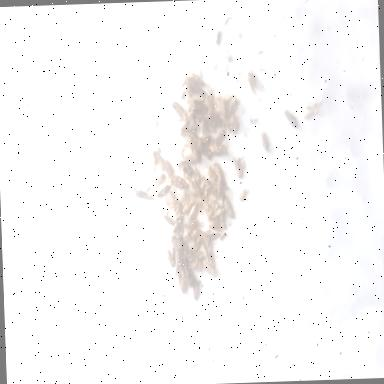pbw: (186, 232, 203, 258), (300, 102, 324, 120), (224, 96, 240, 119), (231, 155, 245, 180), (170, 100, 186, 121), (152, 150, 166, 174), (187, 139, 200, 164), (213, 97, 226, 122), (200, 235, 214, 258), (146, 174, 166, 190), (169, 174, 189, 190), (176, 270, 188, 296), (165, 192, 180, 212), (247, 72, 261, 93), (284, 110, 298, 130), (222, 196, 234, 219), (183, 228, 202, 242), (190, 176, 202, 198), (213, 162, 224, 186), (164, 246, 176, 268), (199, 179, 212, 199), (190, 71, 206, 87), (180, 160, 194, 178), (184, 264, 195, 286), (208, 142, 228, 154), (186, 110, 198, 130), (201, 258, 214, 276), (201, 120, 211, 143), (192, 84, 206, 100), (155, 184, 171, 198), (212, 130, 226, 146), (205, 201, 218, 218), (191, 280, 202, 300), (201, 140, 212, 160), (134, 189, 154, 200), (178, 238, 186, 265), (207, 208, 225, 220), (190, 102, 208, 114), (180, 78, 192, 96), (171, 215, 183, 233), (170, 234, 178, 260), (186, 203, 197, 221), (182, 198, 194, 214), (194, 110, 212, 120), (183, 128, 198, 140), (162, 214, 177, 226), (184, 220, 202, 230), (164, 160, 174, 178), (238, 187, 250, 201), (260, 134, 269, 152), (194, 167, 202, 186), (208, 166, 216, 184), (213, 184, 221, 202), (180, 120, 188, 136), (195, 256, 203, 272), (208, 232, 221, 240), (196, 199, 204, 210), (208, 224, 220, 231), (180, 192, 186, 204), (177, 204, 183, 214)
